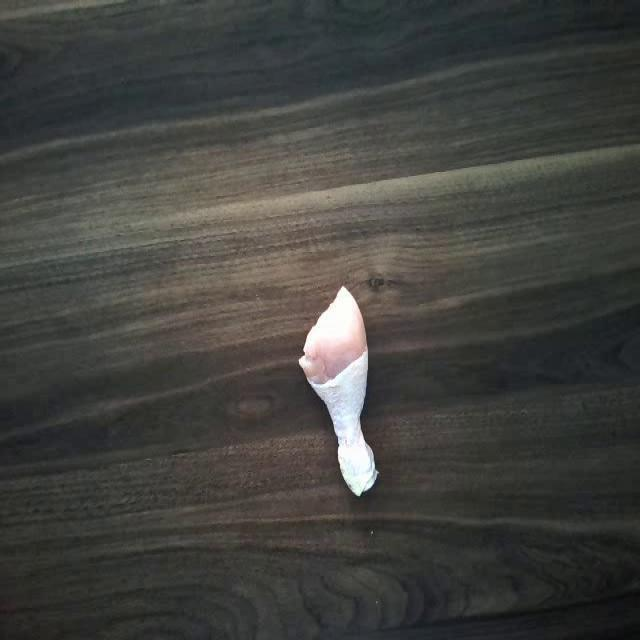leg: (302, 290, 384, 489)
